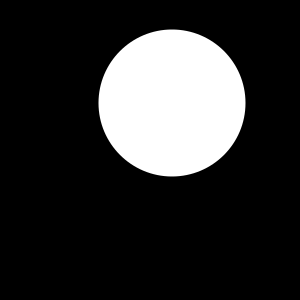rectangle: (99, 30, 246, 176)
